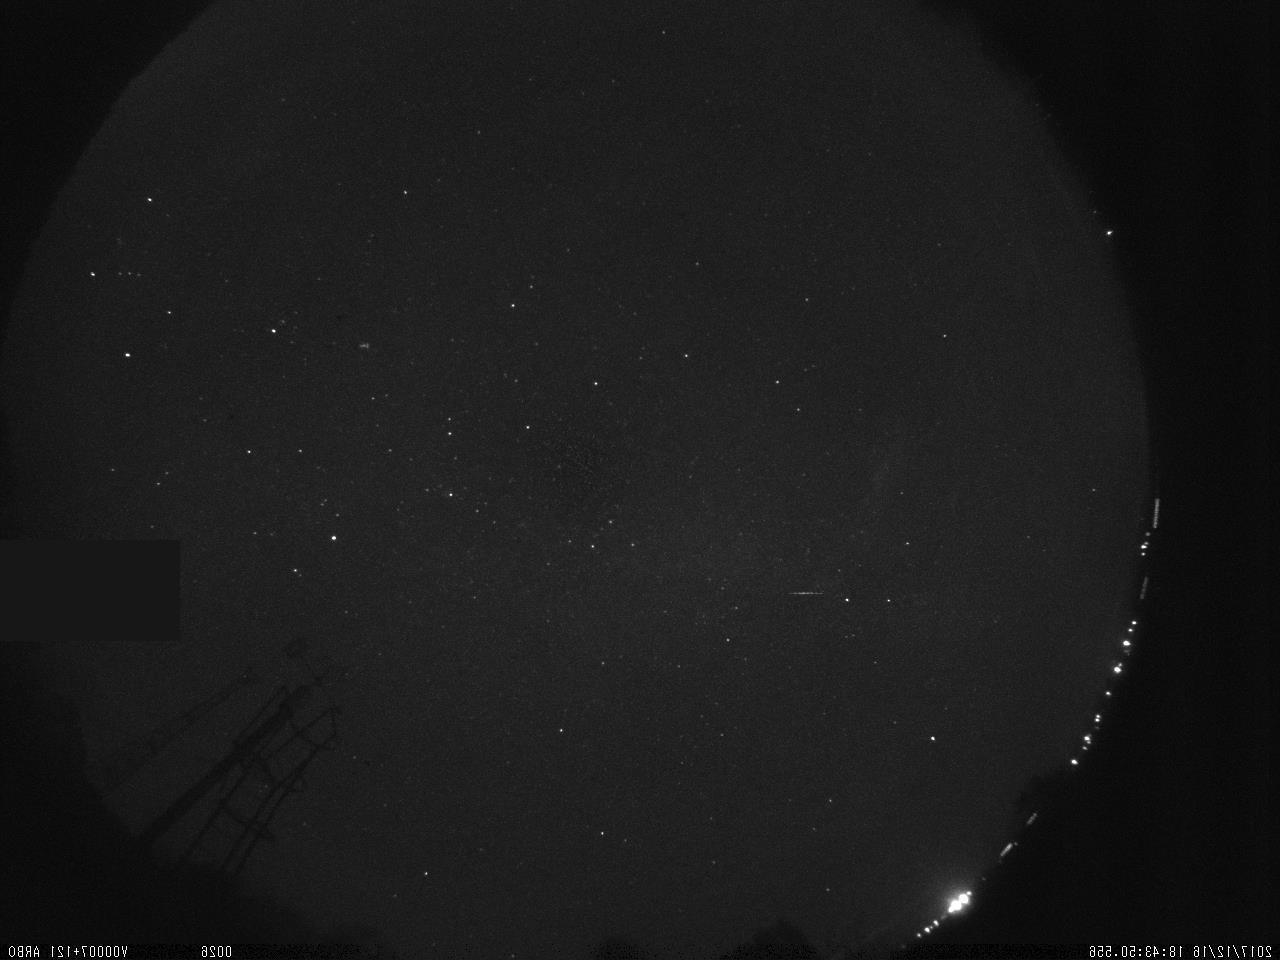meteor: (780, 582, 838, 614)
